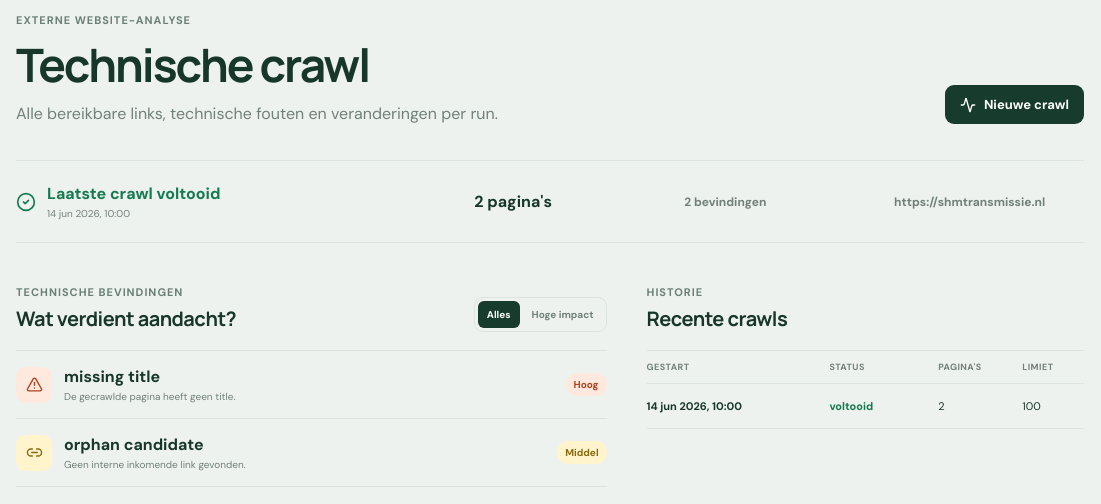
Test case: CrawlPage › loads real crawl history and filters technical issues
Expected: the text "2 pagina's" is shown, [474,191,552,212]
Expected: the text "De gecrawlde pagina heeft geen title." is shown, [64,390,235,403]
Click the button "Hoge impact". click: point(563, 314)
box: [523,301,603,328]
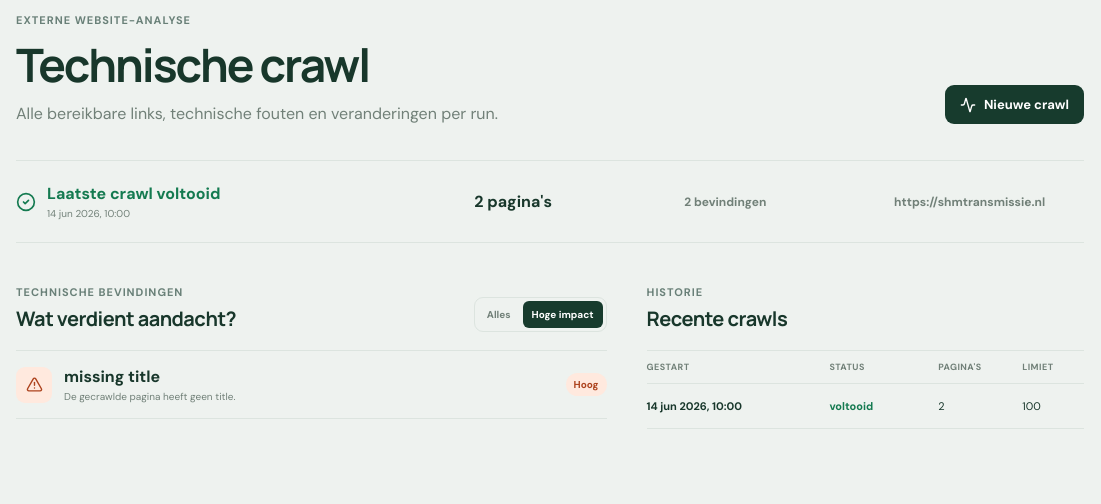
Expected: the text "Geen interne inkomende link gevonden." is gone
